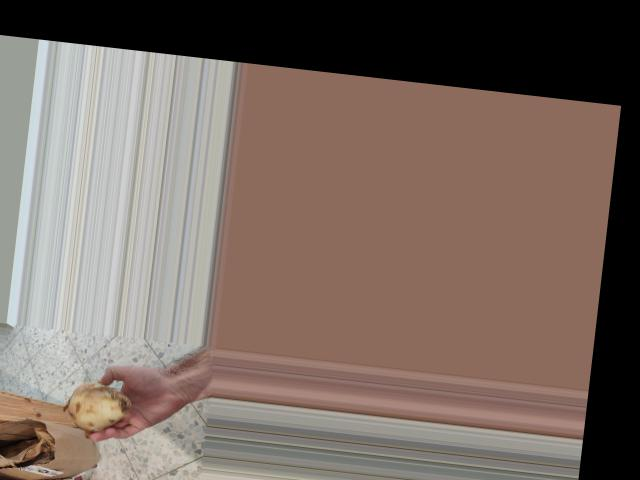onion: (60, 376, 137, 441)
